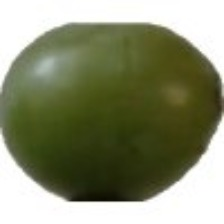grapes: (22, 19, 179, 206)
